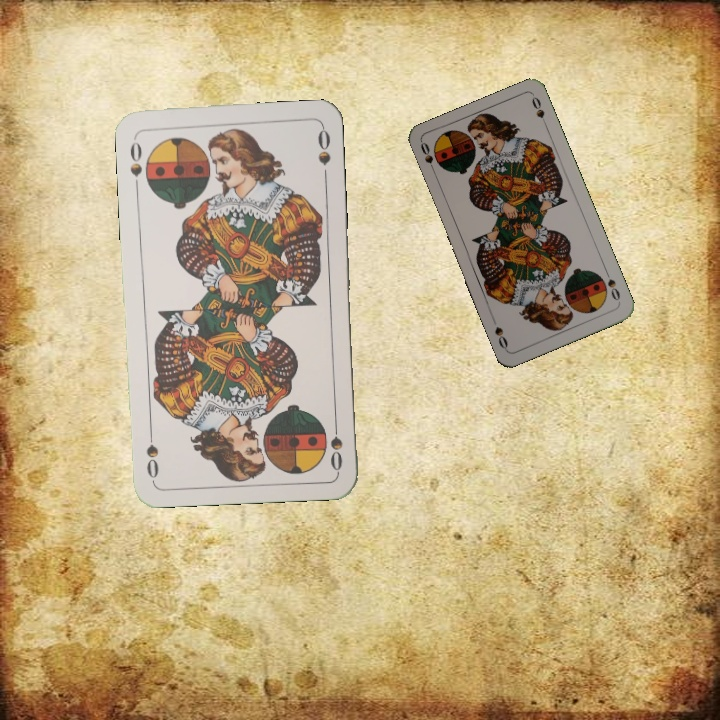SO: (125, 133, 145, 192), (326, 414, 345, 473), (416, 138, 439, 178), (601, 266, 623, 303)
